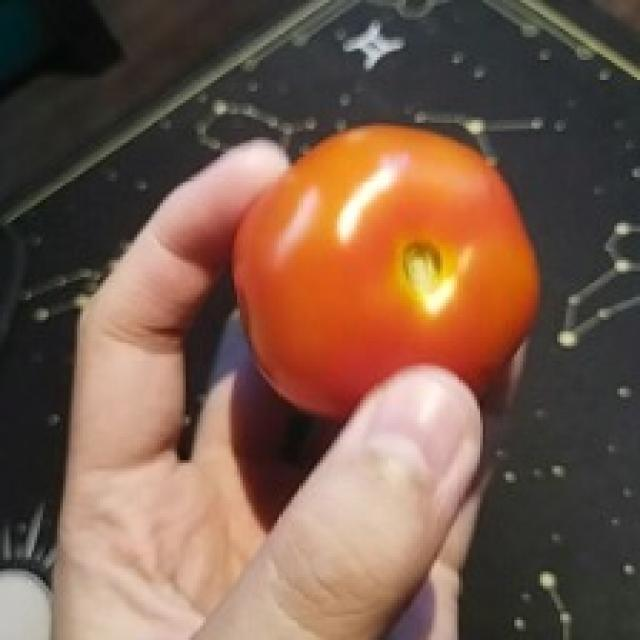Fresh Tomato: (232, 110, 548, 437)
